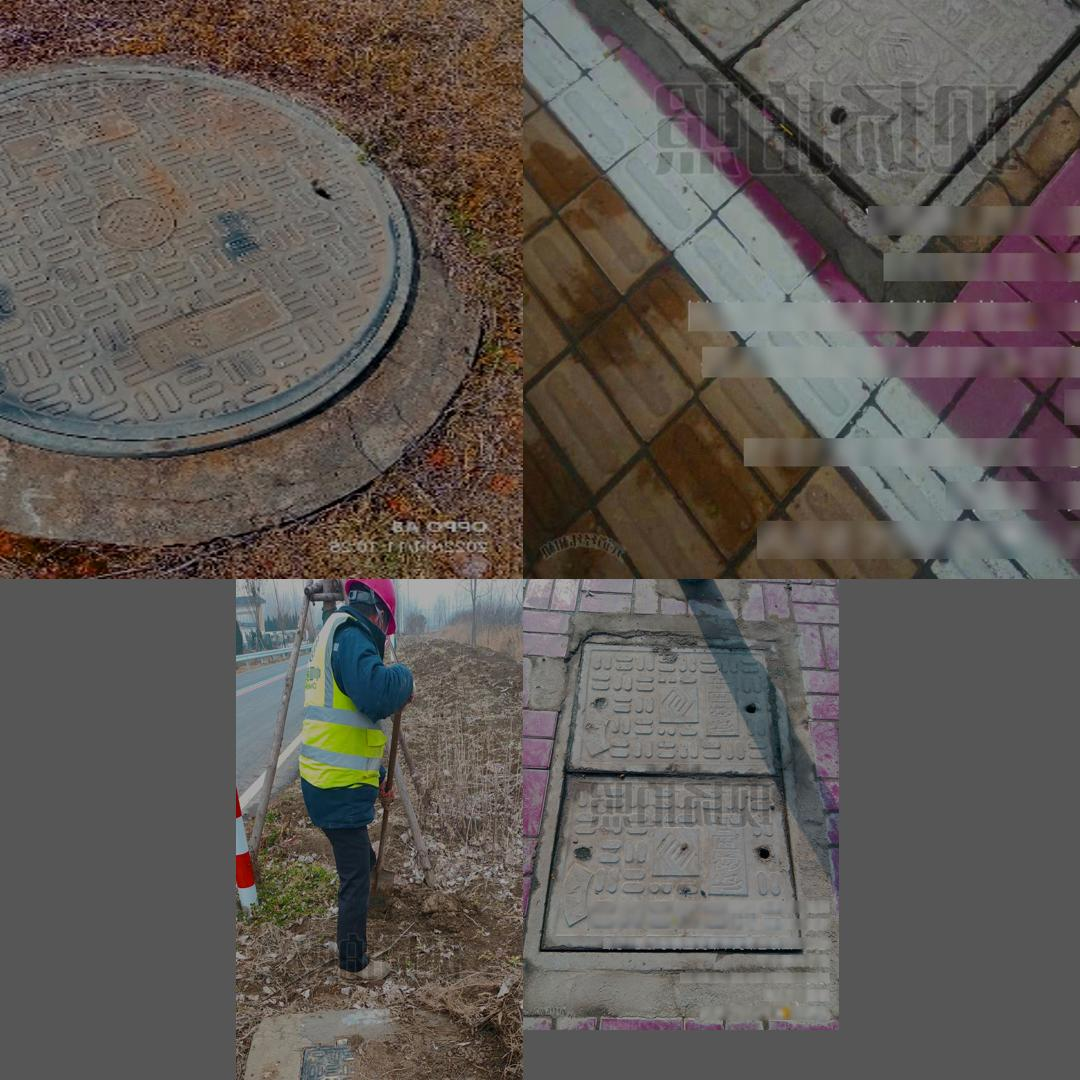good: (0, 66, 417, 458), (523, 632, 814, 971), (628, 0, 1080, 204), (264, 1035, 516, 1080)
